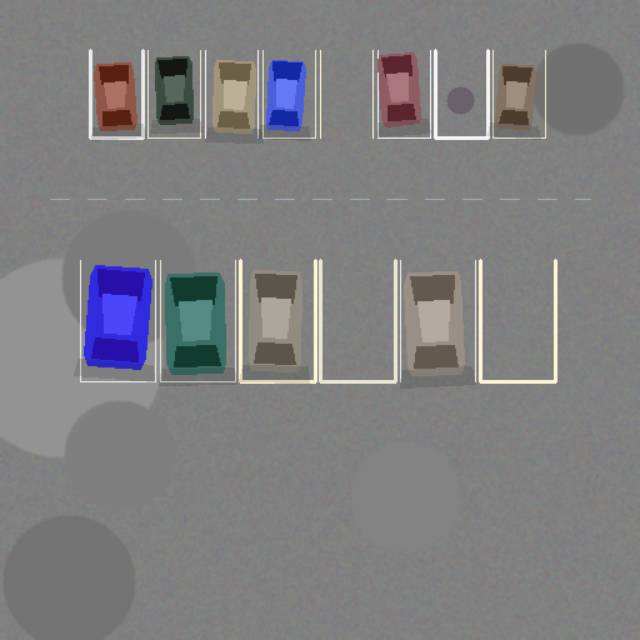space-empty: (320, 260, 395, 381), (480, 260, 555, 381), (320, 50, 373, 137), (435, 50, 487, 137)
space-occupied: (80, 260, 155, 381), (160, 260, 235, 381), (240, 260, 315, 381), (400, 260, 475, 381), (90, 50, 143, 137), (147, 50, 200, 137), (377, 50, 430, 137), (205, 50, 257, 137), (263, 50, 315, 137), (493, 50, 545, 137)
